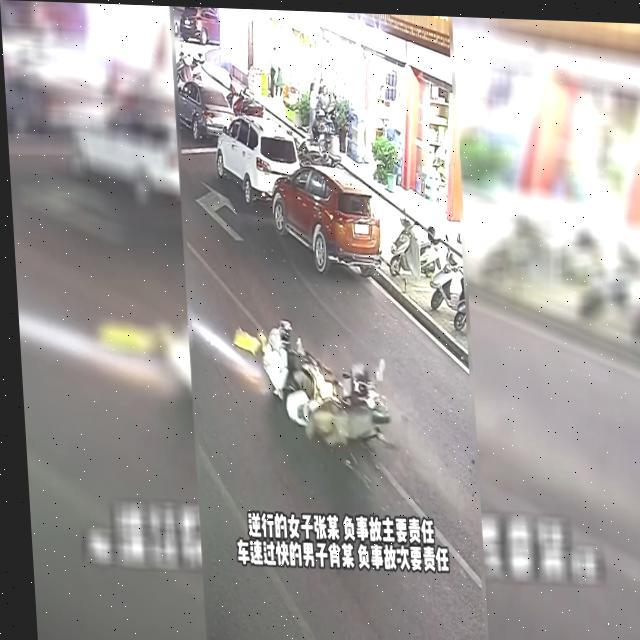multiple_accident: (226, 312, 420, 470)
normal: (209, 122, 390, 285)
